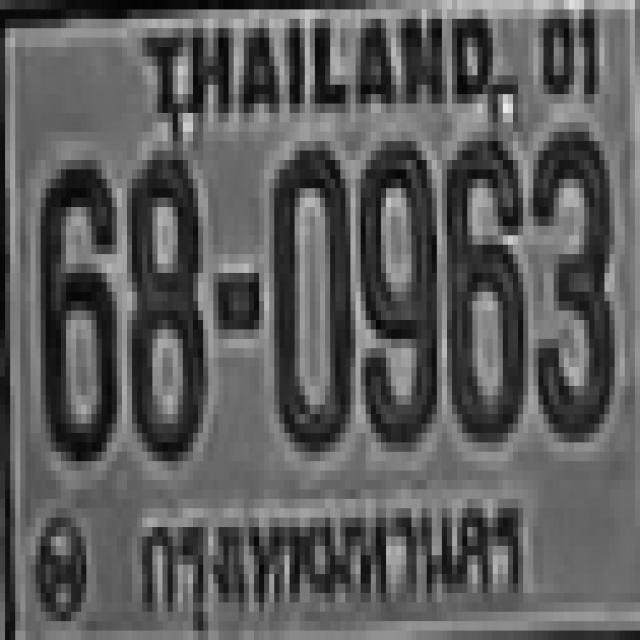0: (269, 142, 351, 442)
3: (528, 122, 610, 433)
6: (442, 132, 523, 433), (36, 150, 111, 452)
8: (127, 150, 203, 452)
9: (358, 132, 434, 442)
Bangkok: (136, 488, 541, 636)
